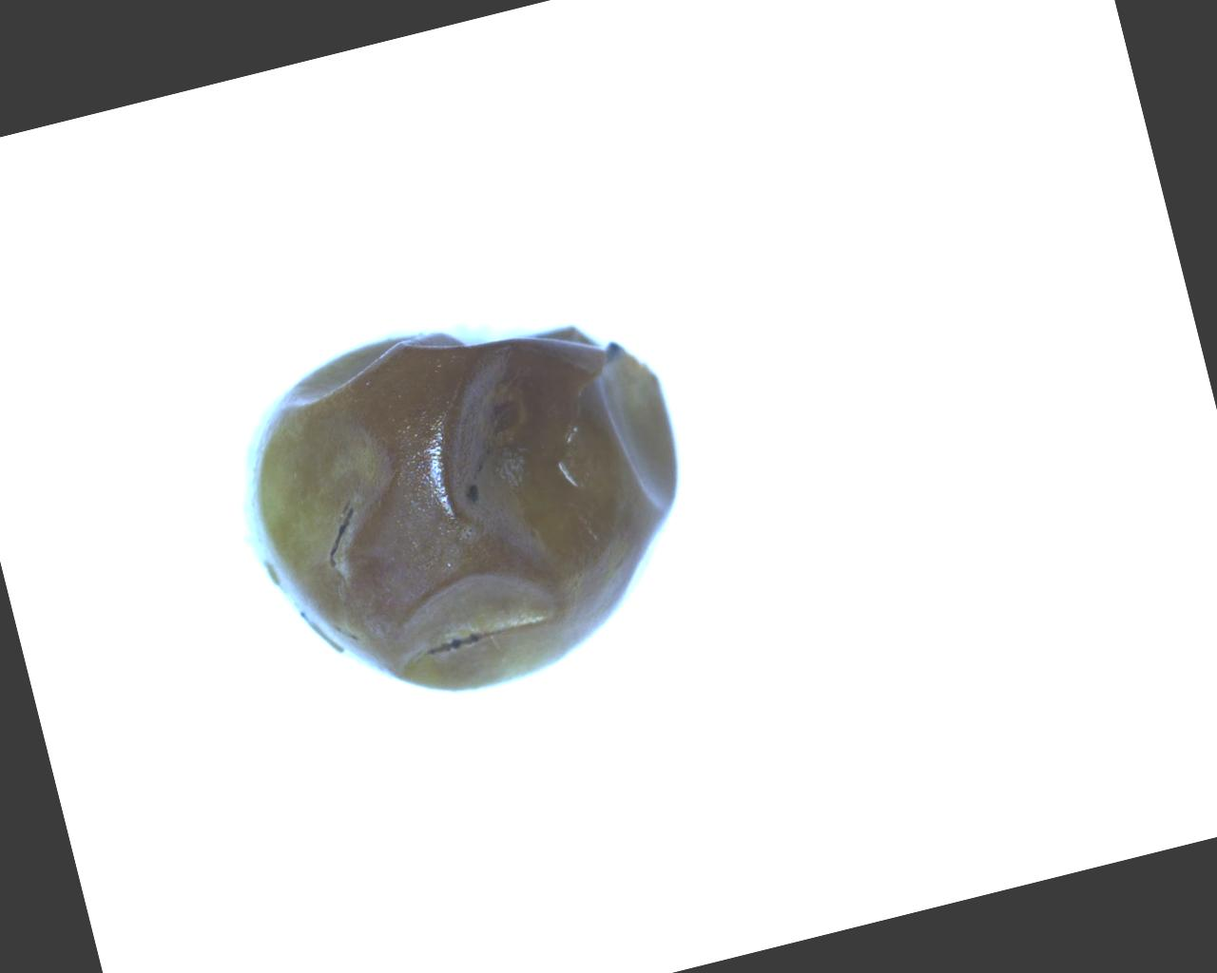Grape Rotten: (210, 272, 725, 736)
